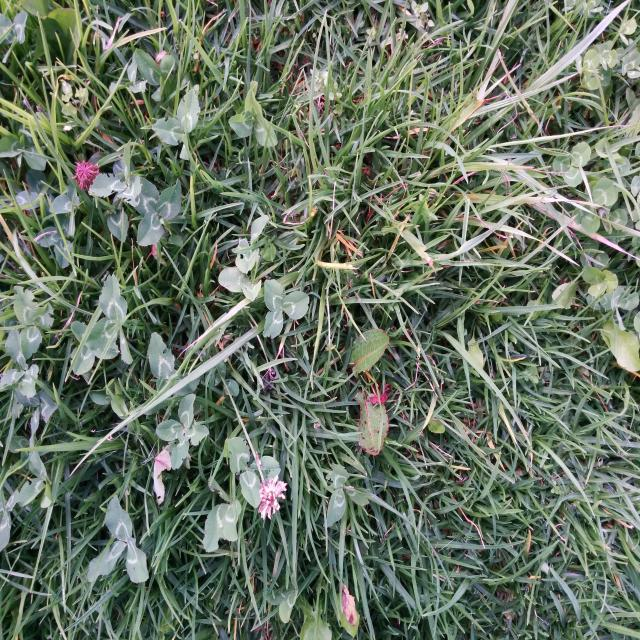Four Leaf Clover: (157, 394, 209, 468)
